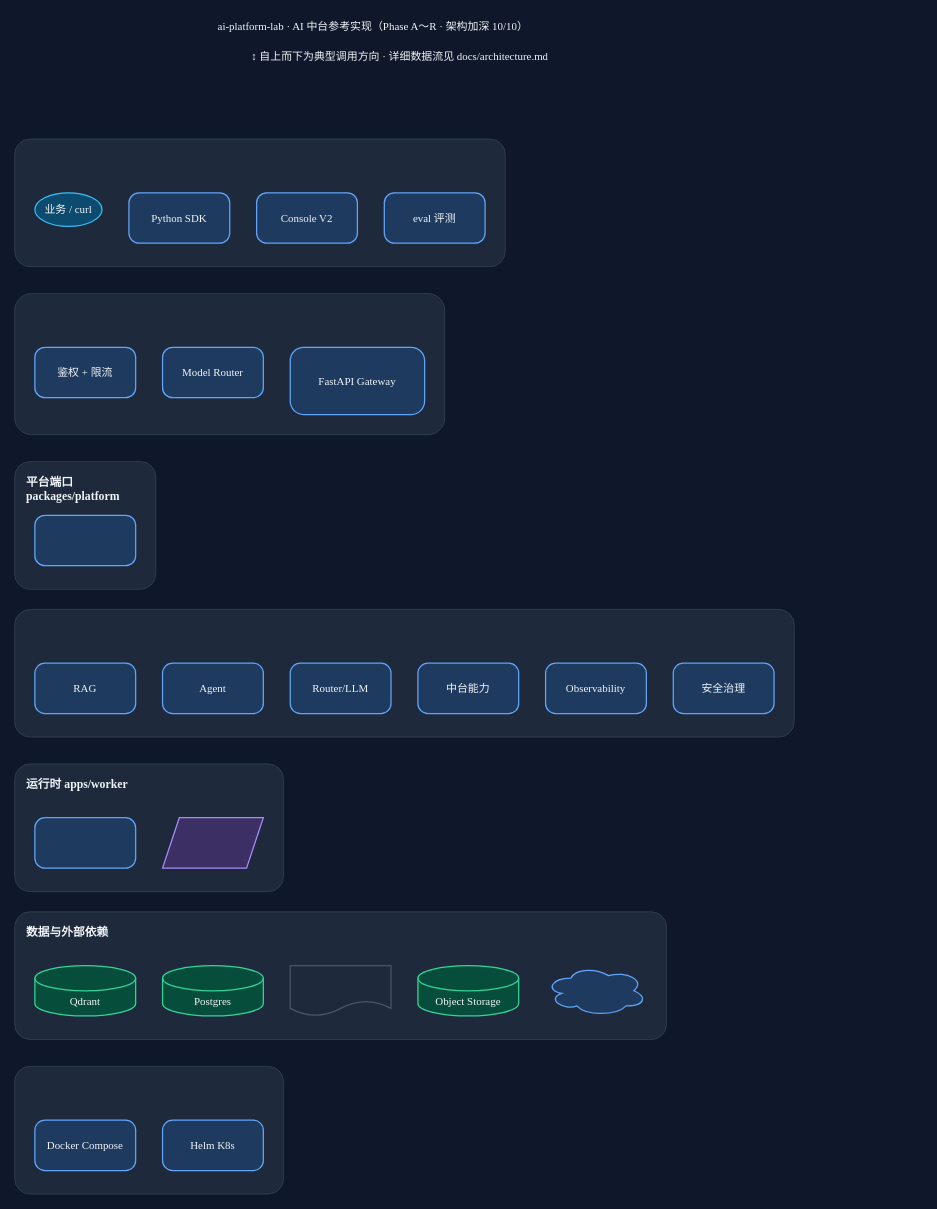
Some shapes in this 937 by 1209 pixel diagram are drawn without their labels. The shapes that lost their labels are listed below. From the top down, each one's box as (x1, y1, x2, y2) in pixels, then its label:
(14, 138, 505, 267): 客户端 / 开发者体验
(14, 293, 445, 435): 接入层 apps/gateway
(34, 514, 136, 566): Platform Ports (wire · DI)
(14, 609, 794, 737): 能力层 packages/*
(34, 817, 136, 868): Worker
(162, 817, 264, 868): Redis 队列
(289, 965, 391, 1016): config/*.yaml
(545, 965, 647, 1016): 上游 LLM API
(14, 1066, 284, 1194): 部署与运维
